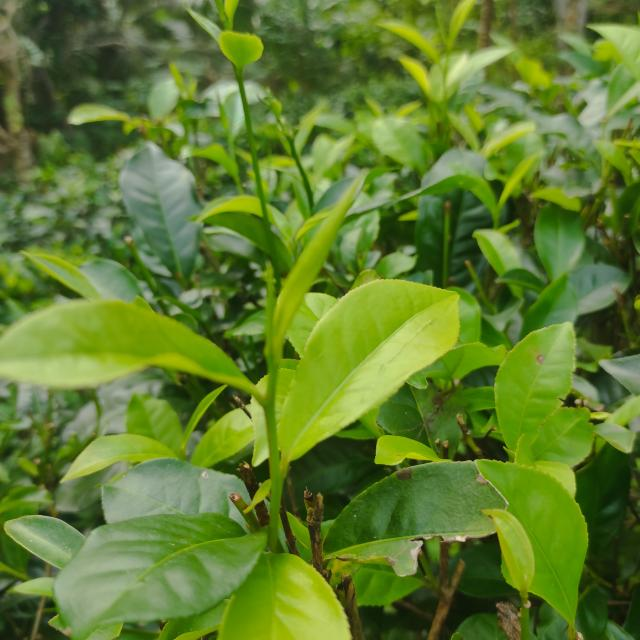unopened_leaf: (271, 157, 379, 364), (253, 256, 280, 370)
